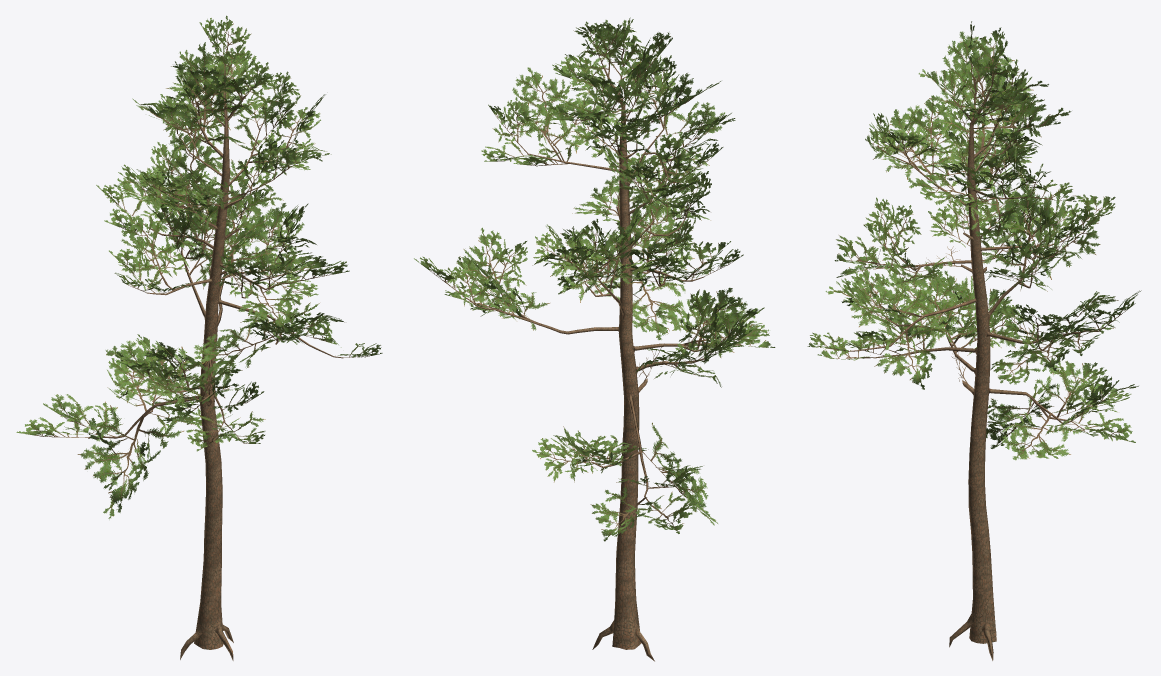
The picture shows the model from 3 angles, left to right: view 1: azimuth 30°, elevation 25°; view 2: azimuth 150°, elevation 25°; view 3: azimuth 270°, elevation 25°; orthographic projection. The views are drawn at different scales.
Visible parts, largest first — view 1: Pine_big_1_LOD1_Bark_Mat_0; view 2: Pine_big_1_LOD1_Bark_Mat_0; view 3: Pine_big_1_LOD1_Bark_Mat_0.
Part boxes in pixels (x1,y1,x2,y2): Pine_big_1_LOD1_Bark_Mat_0: (16,15,382,660); Pine_big_1_LOD1_Bark_Mat_0: (414,17,775,661); Pine_big_1_LOD1_Bark_Mat_0: (807,21,1141,660).
Bounding box in the file's own units: 7.28 × 16.89 × 8.37.
